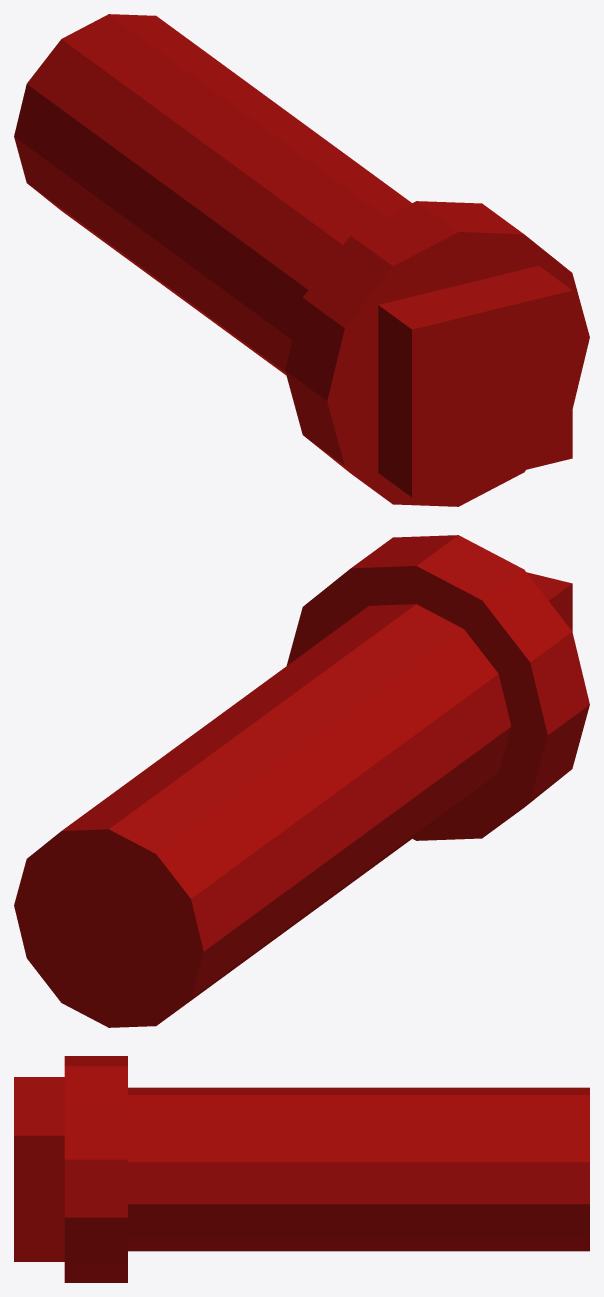
Rendered from fire_hydrant.obj.
3 views of the same model, one above another, from view 1: azimuth 30°, elevation 25°; view 2: azimuth 150°, elevation 25°; view 3: azimuth 270°, elevation 25° (orthographic). The views are drawn at different scales.
Visible parts, largest first — view 1: fire_hydrant; view 2: fire_hydrant; view 3: fire_hydrant.
Part boxes in pixels (left/top/right/bottom): fire_hydrant: left=14, top=14, right=589, bottom=506; fire_hydrant: left=14, top=535, right=589, bottom=1027; fire_hydrant: left=14, top=1056, right=589, bottom=1282.
Bounding box in the file's own units: 0.36 × 0.36 × 0.91.
